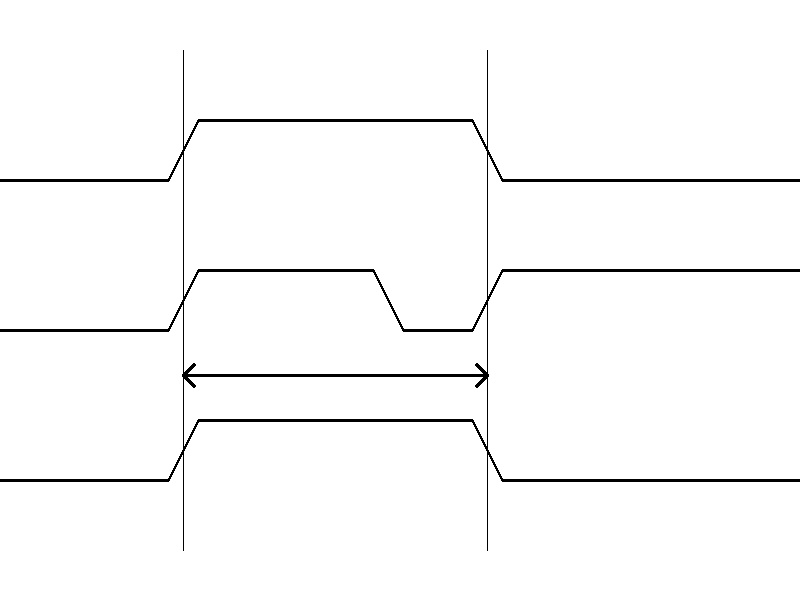double_arrow: (183, 360, 487, 390)
